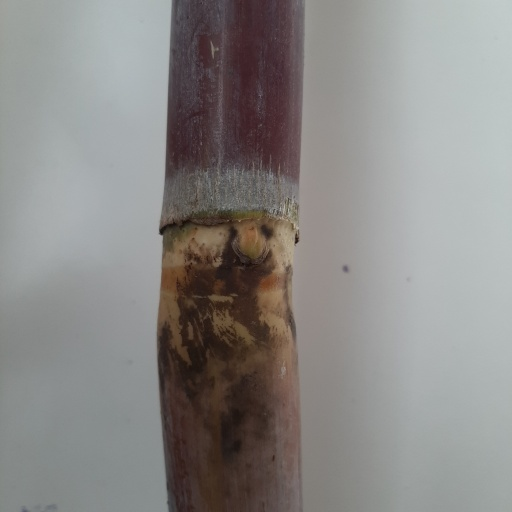Bud: (237, 221, 266, 261)
